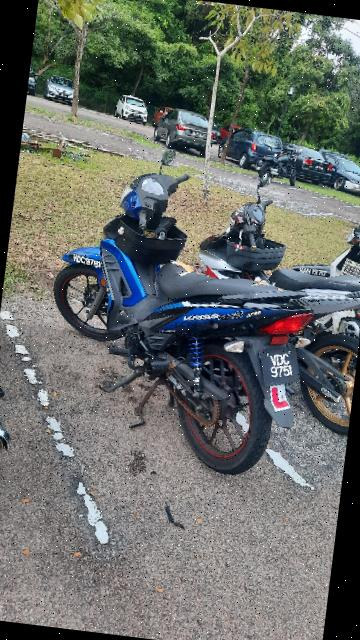License_Plate: (255, 340, 311, 391)
motorcycle: (36, 138, 334, 483), (172, 144, 360, 439)
